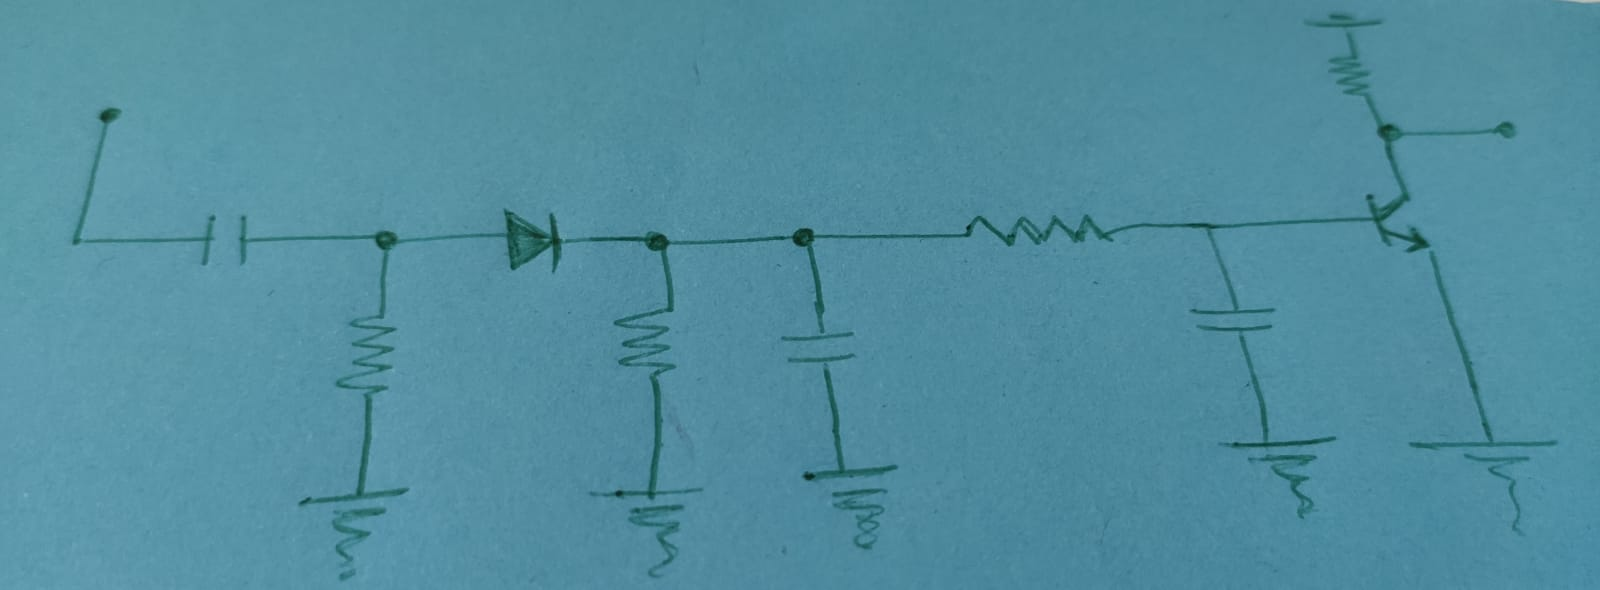capacitor.unpolarized: (778, 324, 859, 368), (1188, 297, 1281, 335), (196, 214, 253, 267)
diode: (497, 197, 569, 275)
gnd: (1408, 423, 1564, 542), (583, 478, 708, 583), (295, 478, 411, 586), (1215, 425, 1341, 522), (797, 454, 907, 555)
junction: (360, 225, 408, 258), (1370, 116, 1412, 150), (640, 230, 682, 257), (784, 223, 823, 251), (1189, 213, 1224, 243), (62, 225, 94, 255)
resistor: (961, 212, 1118, 249), (333, 308, 398, 395), (610, 300, 678, 384), (1323, 49, 1378, 103)
terminal: (1485, 117, 1524, 142), (95, 102, 124, 128)
transistor: (1359, 185, 1441, 256)
voltage.dc: (1300, 8, 1388, 29)
